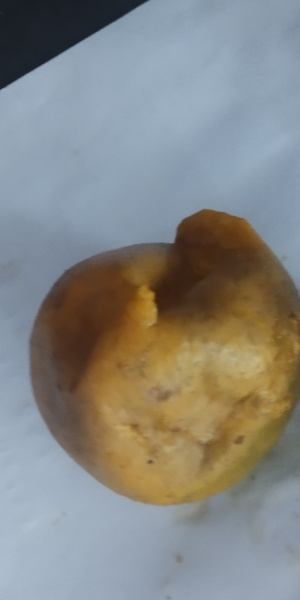BAD: (18, 209, 300, 509)
